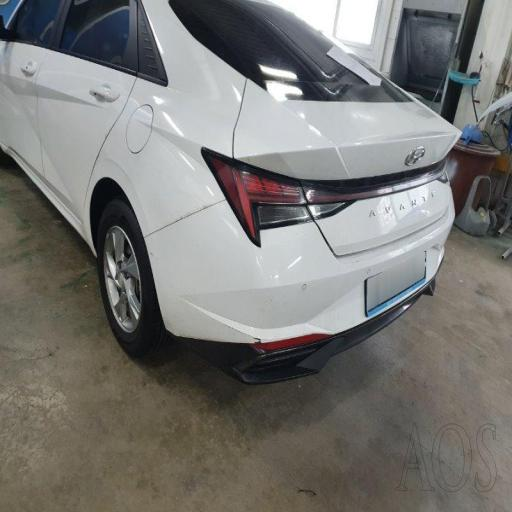dent: (222, 90, 461, 337)
